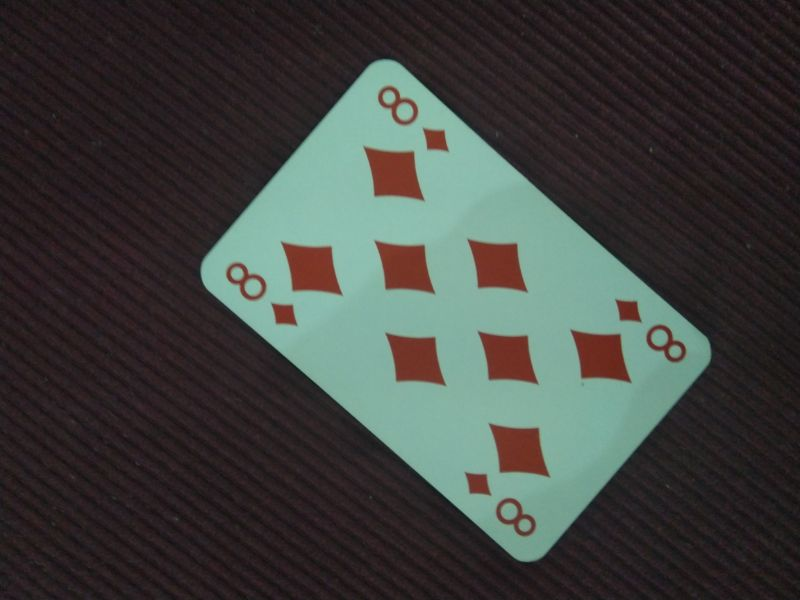8d: (221, 257, 302, 330), (462, 465, 539, 539), (376, 82, 452, 155), (613, 295, 689, 365)
